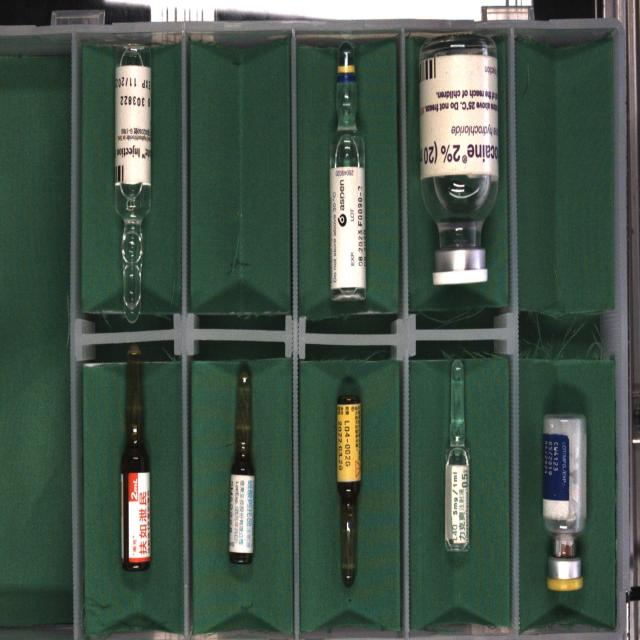Vials: (419, 35, 499, 285), (543, 414, 586, 591)
